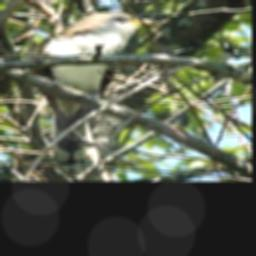Cuckoo: (29, 11, 164, 172)
